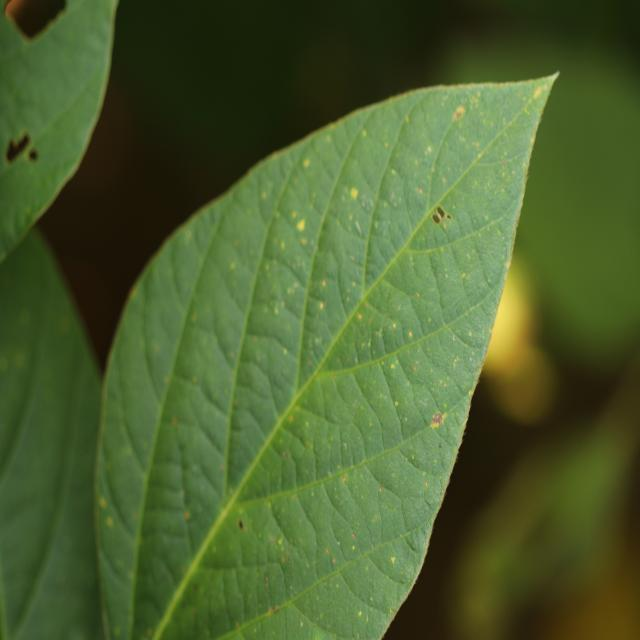Soybean: (91, 76, 557, 640)
downey_mildew: (108, 360, 221, 637), (372, 244, 498, 443), (260, 129, 367, 353), (538, 63, 637, 305), (0, 102, 102, 263), (256, 90, 464, 163), (4, 8, 107, 141), (442, 83, 543, 202), (230, 307, 301, 476), (109, 287, 169, 483), (494, 139, 545, 333), (94, 447, 143, 640), (384, 101, 451, 238), (195, 581, 342, 638), (351, 273, 429, 380), (0, 302, 43, 494), (168, 364, 234, 487), (369, 436, 444, 539), (588, 333, 640, 477), (413, 200, 523, 263), (328, 532, 408, 617), (245, 256, 309, 362), (254, 205, 315, 308), (202, 497, 281, 576), (327, 164, 402, 246), (0, 439, 52, 553), (407, 73, 560, 109), (347, 356, 403, 454), (424, 234, 477, 326), (326, 470, 375, 557), (208, 276, 253, 362), (270, 485, 318, 554), (225, 404, 266, 483), (470, 218, 512, 294), (0, 184, 42, 257), (195, 359, 239, 428), (376, 483, 408, 543), (14, 134, 29, 155), (544, 70, 560, 86), (5, 142, 16, 162), (14, 350, 26, 367), (19, 310, 30, 326), (0, 356, 9, 372), (355, 220, 362, 235), (350, 187, 358, 199), (99, 497, 106, 508), (106, 517, 113, 528), (303, 158, 310, 167), (230, 262, 236, 270), (25, 206, 31, 214), (301, 237, 307, 245), (261, 192, 267, 199), (280, 241, 285, 249), (192, 376, 197, 383), (342, 476, 347, 483), (405, 115, 409, 123)
